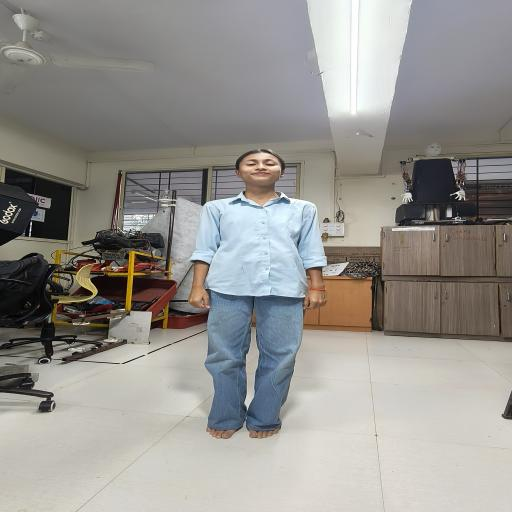survivor: (187, 148, 328, 440)
